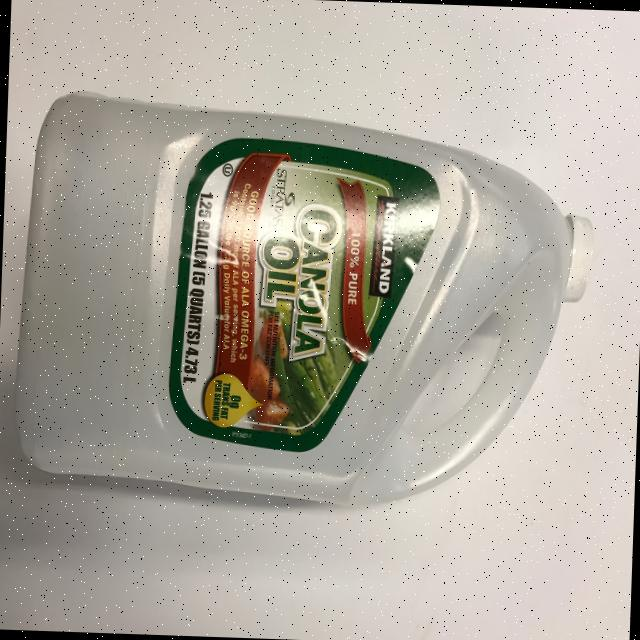plastic: (10, 87, 598, 514)
